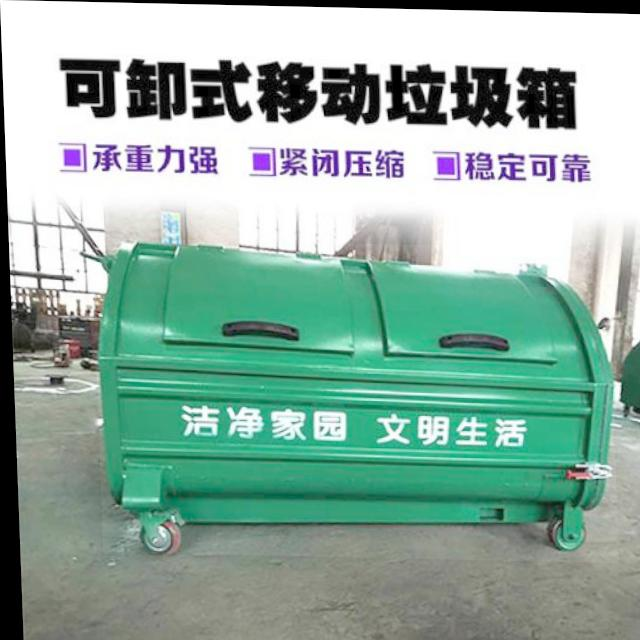garbage_bin: (90, 237, 615, 561)
